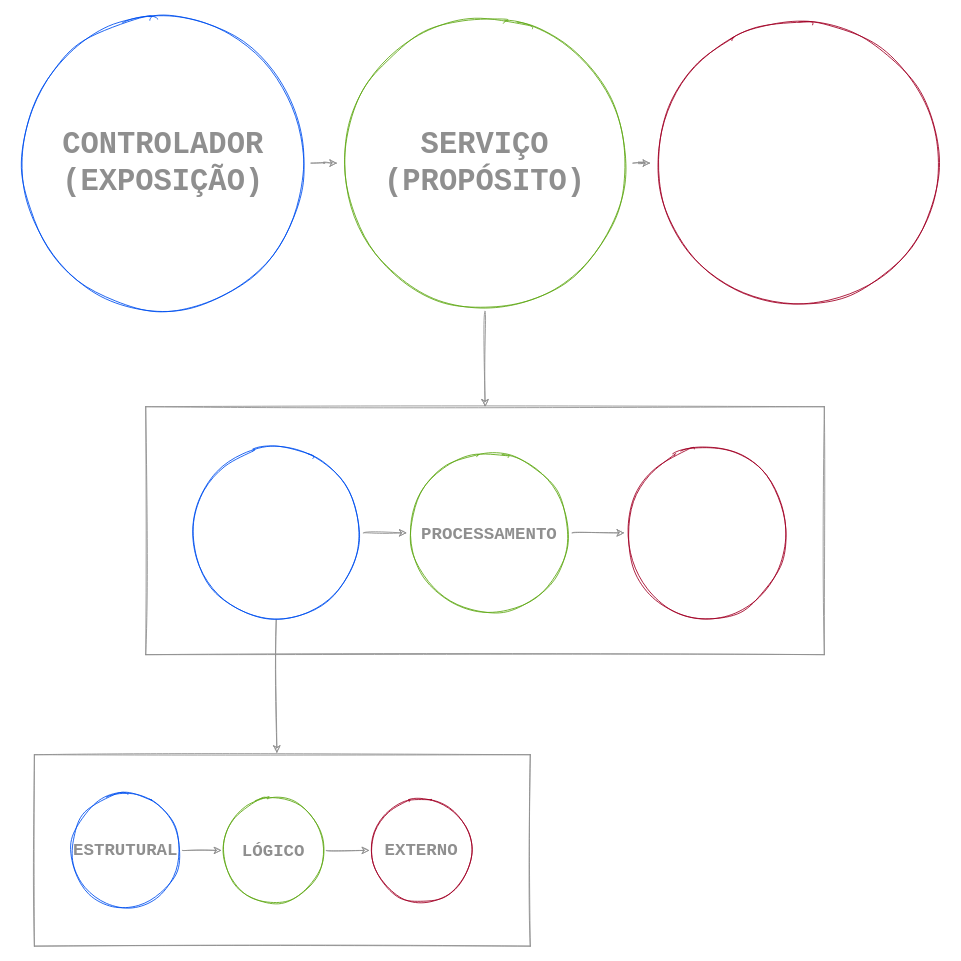
Some shapes in this 961 by 961 pixel diagram are drawn without their labels. Each missing label, with the centre of its shape:
"CORRETOR (DEPENDÊNCIA)" goes at (x=797, y=162).
"INTEGRAÇÃO" goes at (x=706, y=532).
"VALIDAÇÃO" goes at (x=275, y=532).
